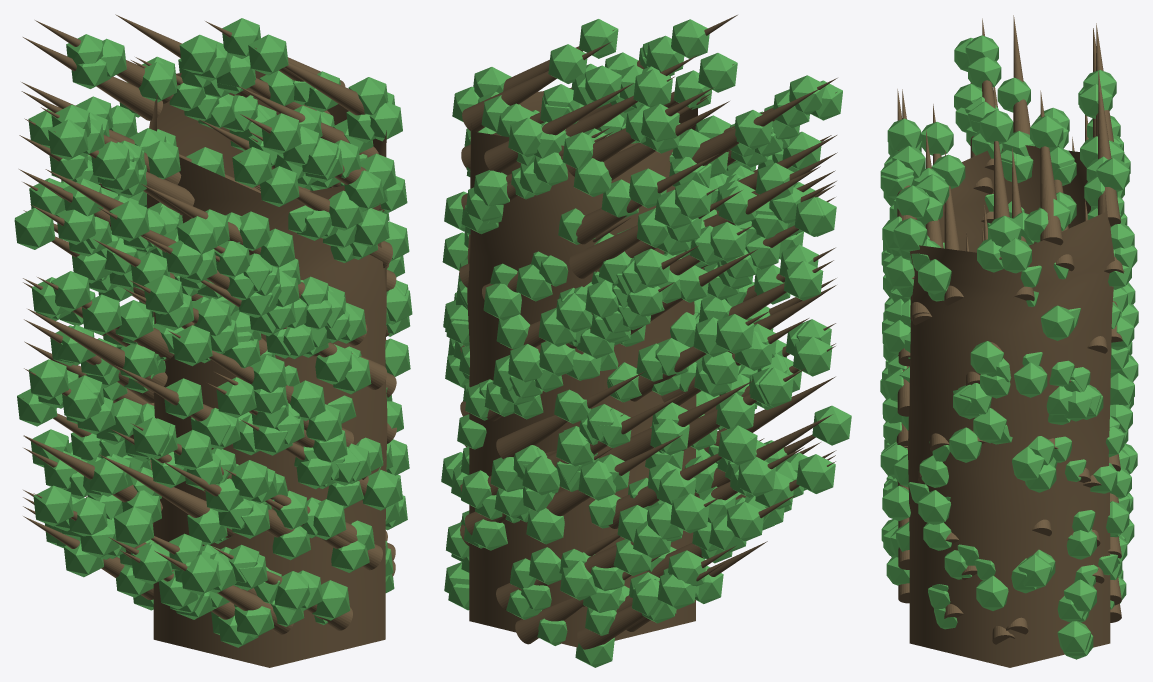
The model's file is tree_var_5992.glb.
The picture shows the model from 3 angles, left to right: view 1: azimuth 30°, elevation 25°; view 2: azimuth 150°, elevation 25°; view 3: azimuth 270°, elevation 25°; orthographic projection. The views are drawn at different scales.
Parts seen in each view (by area): view 1: tree_var_5992; view 2: tree_var_5992; view 3: tree_var_5992.
Boxes of the visible parts, x1,y1,x2,y2 form: tree_var_5992: [14, 14, 412, 667]; tree_var_5992: [441, 15, 851, 667]; tree_var_5992: [880, 15, 1138, 667].
Size of the model in its own units: 3.31 by 5.12 by 2.23.
